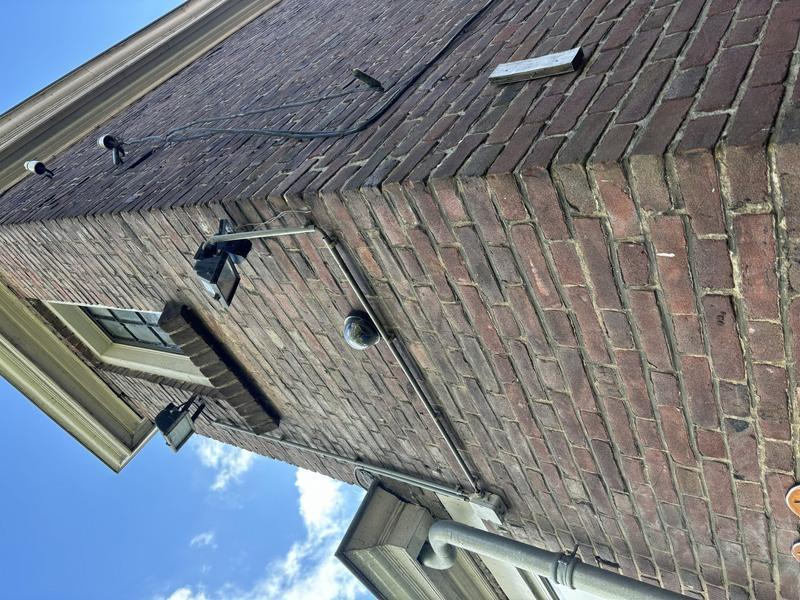dome: (243, 338, 289, 394)
